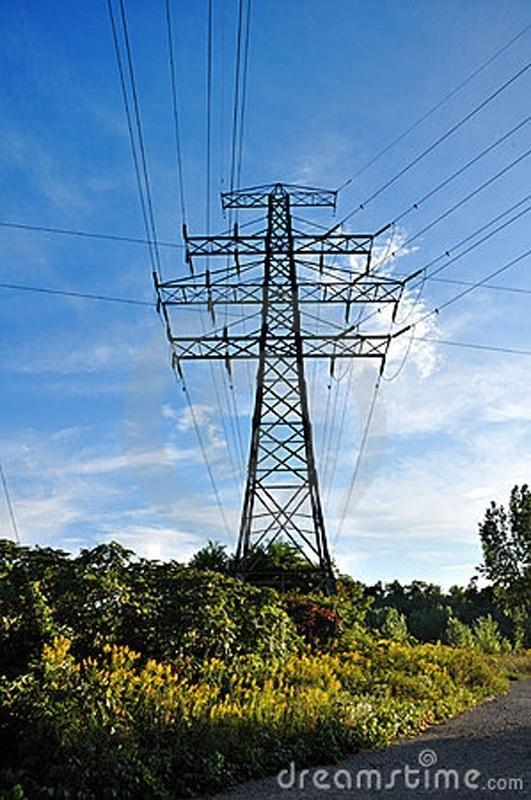power_tower: (152, 181, 426, 618)
